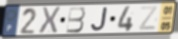2: (19, 7, 39, 35)
4: (117, 5, 135, 33)
B: (65, 6, 87, 34)
J: (90, 6, 109, 32)
X: (38, 7, 62, 36)
Z: (138, 5, 160, 31)
